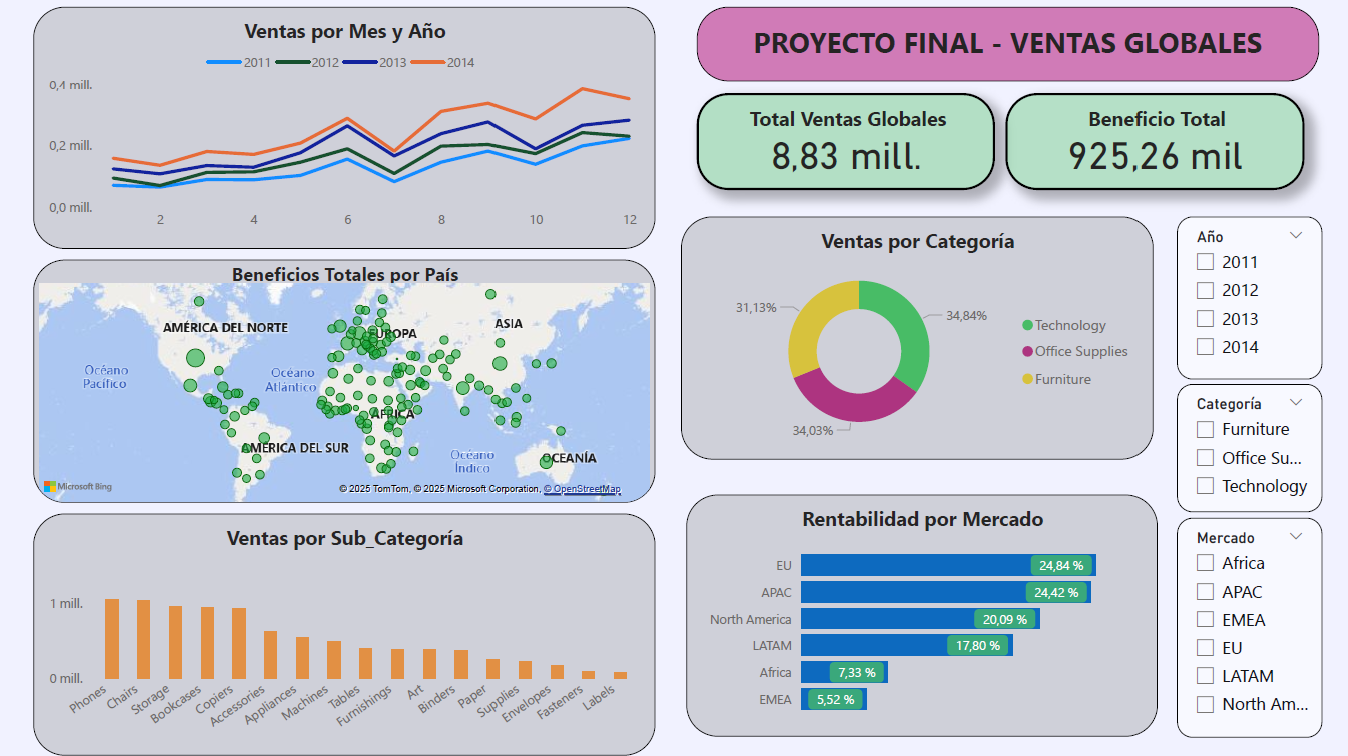

What the dashboard file says about the page in this screenshot:
{"tool":"powerbi","page":{"name":"Ventas","canvas":[1280,720],"ordinal":0},"visuals":[{"type":"card","title":"Total Ventas Globales ","fields":{"Values":["Sum(conjunto_datos_final.Sales)"]},"box":[662.8,90.5,283.7,91.7],"z":0},{"type":"lineChart","title":"Ventas por Mes y Año","fields":{"Y":["Sum(conjunto_datos_final.Sales)"],"Category":["conjunto_datos_final.Month"],"Series":["conjunto_datos_final.Year"]},"box":[34.2,7.3,589.4,231.1],"z":1000},{"type":"map","fields":{"Category":["conjunto_datos_final.Country"],"Size":["Sum(conjunto_datos_final.Profit)"]},"box":[34.2,248.2,589.4,231.1],"z":2000},{"type":"card","title":"Beneficio Total","fields":{"Values":["Sum(conjunto_datos_final.Profit)"]},"box":[956.3,90.5,283,91.7],"z":3000},{"type":"slicer","fields":{"Values":["conjunto_datos_final.Year"]},"box":[1118.1,206.7,138.2,155.3],"z":4000},{"type":"donutChart","title":"Ventas por Categoría","fields":{"Category":["conjunto_datos_final.Category"],"Y":["Divide(Sum(conjunto_datos_final.Sales), ScopedEval(Sum(conjunto_datos_final.Sales), []))"]},"box":[648.1,206.7,447.6,231.1],"z":5000},{"type":"columnChart","title":"Ventas por Sub_Categoría","fields":{"Category":["conjunto_datos_final.Sub_Category"],"Y":["Sum(Ventas Globales.Sales)"]},"box":[34.2,489.1,589.4,231.1],"z":6000},{"type":"slicer","fields":{"Values":["conjunto_datos_final.Market"]},"box":[1117.7,492.8,138.2,210.3],"z":7000},{"type":"slicer","fields":{"Values":["conjunto_datos_final.Category"]},"box":[1117.7,365.6,138.2,122.3],"z":8000},{"type":"textbox","box":[662.8,7.3,590.6,70.9],"z":9000},{"type":"barChart","title":"Rentabilidad por Mercado","fields":{"Category":["conjunto_datos_final.Market"],"Y":["Sum(Ventas Globales.Profit)"]},"box":[652.8,471.5,447,231],"z":10000}]}

Visuals, with their boxes in screenshot pixels (x1, y1, x2, y2), scaled from the page's 1280x720 canvas onto the 1348x756 screenshot:
"Total Ventas Globales " card: [x1=698, y1=95, x2=997, y2=191]
"Ventas por Mes y Año" lineChart: [x1=36, y1=8, x2=657, y2=250]
map - conjunto_datos_final.Country x Sum(conjunto_datos_final.Profit): [x1=36, y1=261, x2=657, y2=503]
"Beneficio Total" card: [x1=1007, y1=95, x2=1305, y2=191]
slicer - conjunto_datos_final.Year: [x1=1177, y1=217, x2=1323, y2=380]
"Ventas por Categoría" donutChart: [x1=683, y1=217, x2=1154, y2=460]
"Ventas por Sub_Categoría" columnChart: [x1=36, y1=514, x2=657, y2=755]
slicer - conjunto_datos_final.Market: [x1=1177, y1=517, x2=1323, y2=738]
slicer - conjunto_datos_final.Category: [x1=1177, y1=384, x2=1323, y2=512]
textbox: [x1=698, y1=8, x2=1320, y2=82]
"Rentabilidad por Mercado" barChart: [x1=687, y1=495, x2=1158, y2=738]
